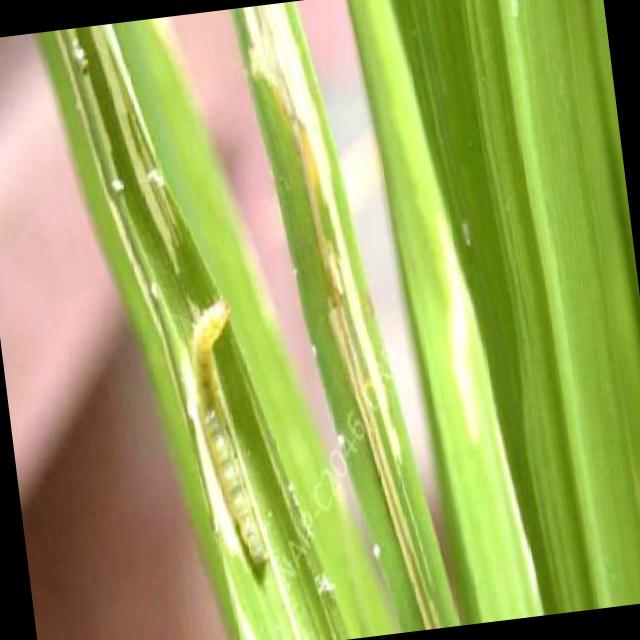leaf-folder: (179, 286, 285, 588)
